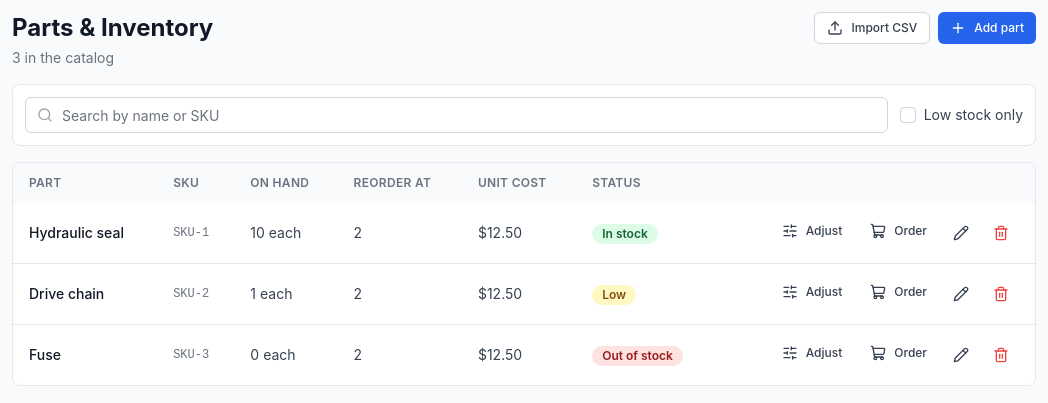
Test: PartsPage › searches by name as you type
The image size is (1048, 403).
Expected: the text "Hydraulic seal" is shown, [13,203,157,264]
Step 1. Type "chain" into the search field named "Search parts" → {"x": 456, "y": 115}, box [25,97,888,133]
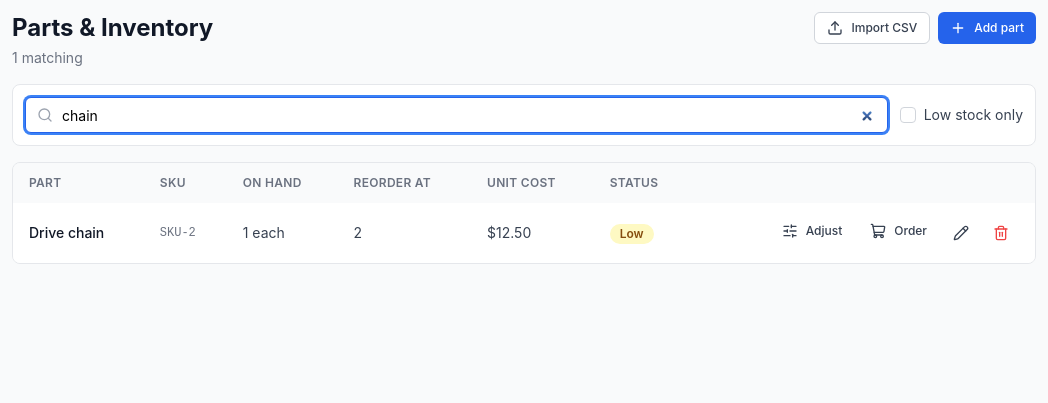
Expected: the text "Drive chain" is shown, [13,203,144,263]
Now the text "Hydraulic seal" is gone
